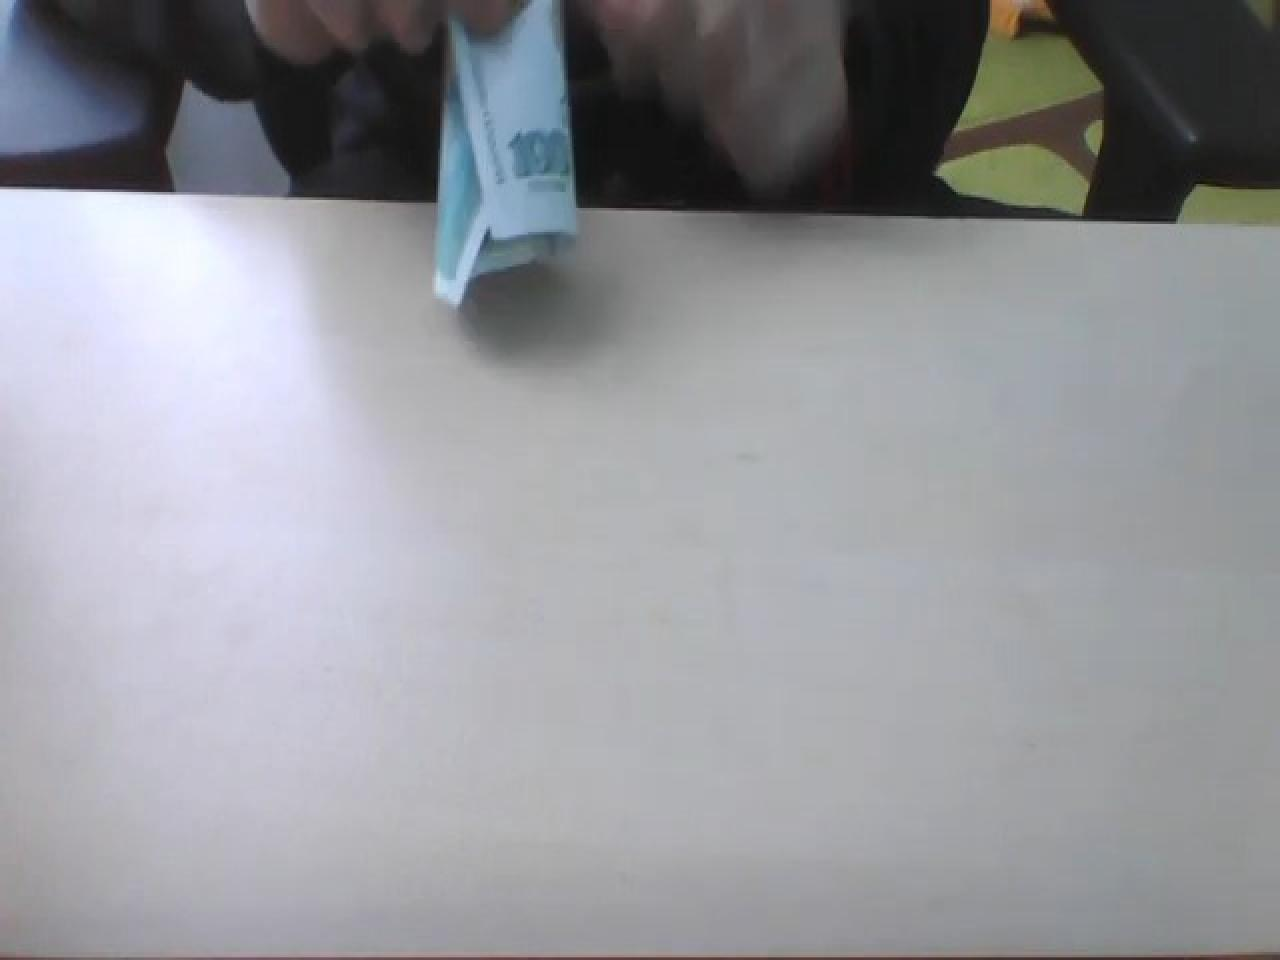100leva: (430, 0, 580, 307)
